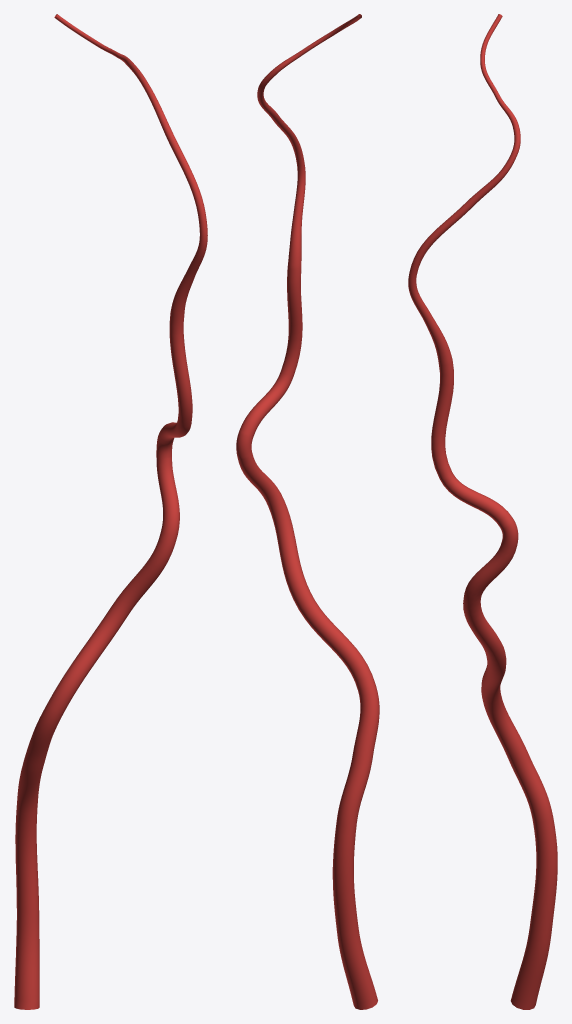
3 views of the same model, side by side, from view 1: azimuth 30°, elevation 25°; view 2: azimuth 150°, elevation 25°; view 3: azimuth 270°, elevation 25° (orthographic). The views are drawn at different scales.
Parts seen in each view (by area): view 1: 右侧枕内侧动脉; view 2: 右侧枕内侧动脉; view 3: 右侧枕内侧动脉.
Boxes of the visible parts, x1,y1,x2,y2 form: 右侧枕内侧动脉: (14, 14, 207, 1009); 右侧枕内侧动脉: (236, 14, 379, 1009); 右侧枕内侧动脉: (408, 14, 557, 1009).
Bounding box in the file's own units: 0.0158 × 0.1015 × 0.0137.
